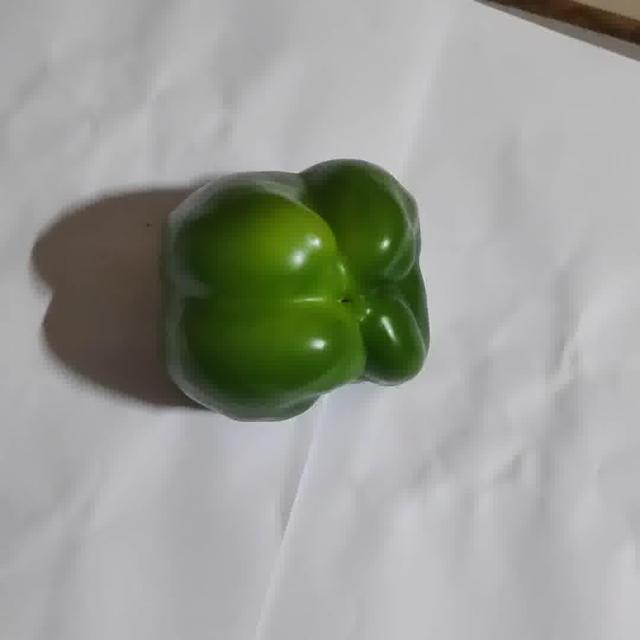Bell Pepper: (166, 159, 429, 420)
